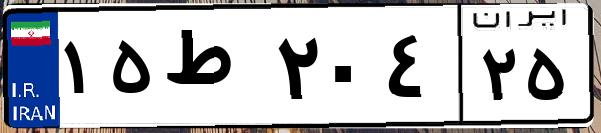0: (330, 28, 385, 110)
1: (57, 26, 110, 100)
2: (270, 28, 330, 110), (475, 38, 525, 113)
4: (385, 28, 445, 110)
5: (525, 38, 570, 115), (110, 28, 158, 98)
ط: (158, 20, 270, 120)
